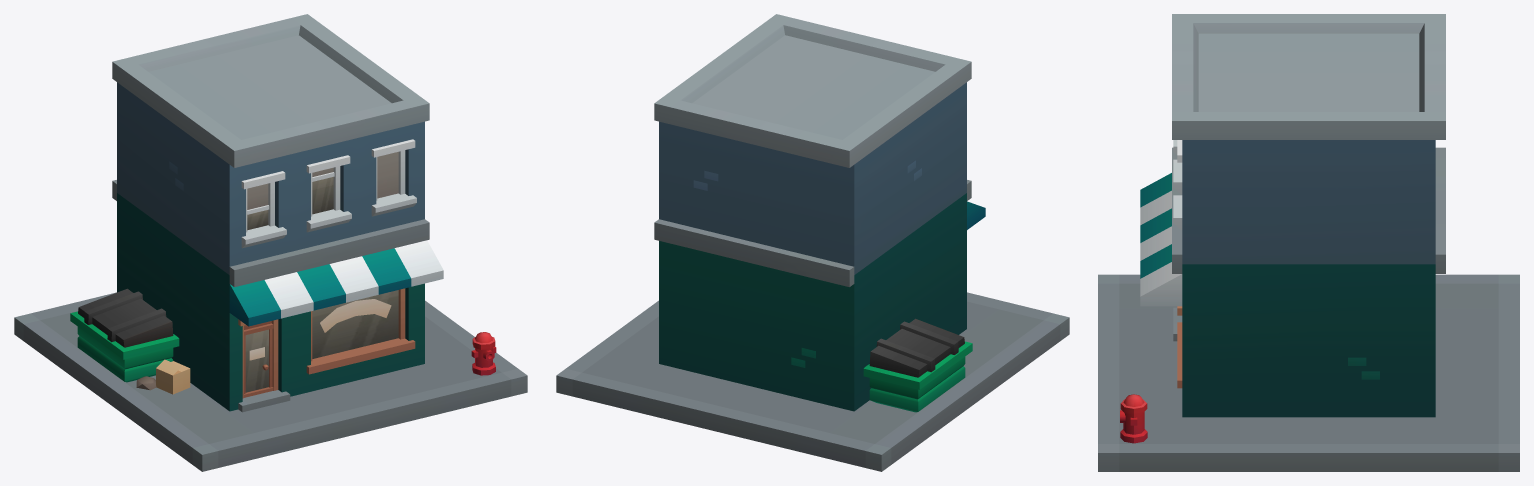
File: b_kay2.glb
3 views of the same model, side by side, from view 1: azimuth 30°, elevation 25°; view 2: azimuth 150°, elevation 25°; view 3: azimuth 270°, elevation 25° (orthographic). The views are drawn at different scales.
Parts seen in each view (by area): view 1: building_A; view 2: building_A; view 3: building_A.
Part boxes in pixels (box(x1,y1,x2,y2)): building_A: box(14, 14, 527, 471); building_A: box(556, 14, 1069, 471); building_A: box(1098, 14, 1519, 471).
Size of the model in its own units: 2 by 1.65 by 2.
1 material, 1 textured.
